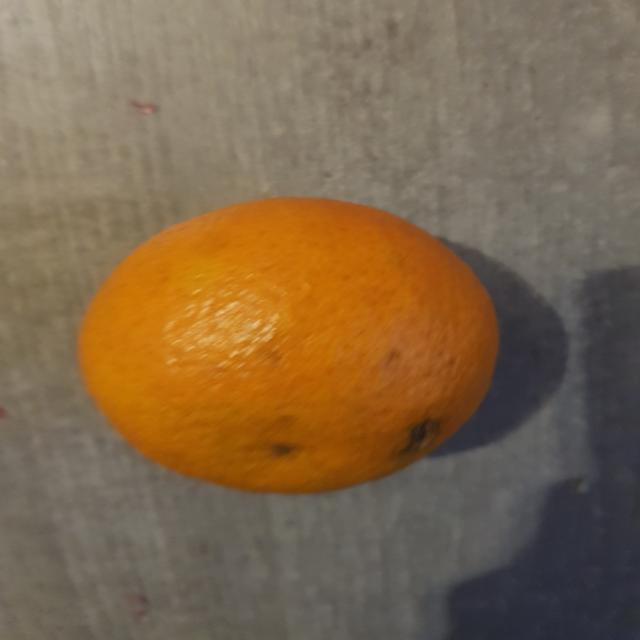Orange: (75, 197, 501, 497)
